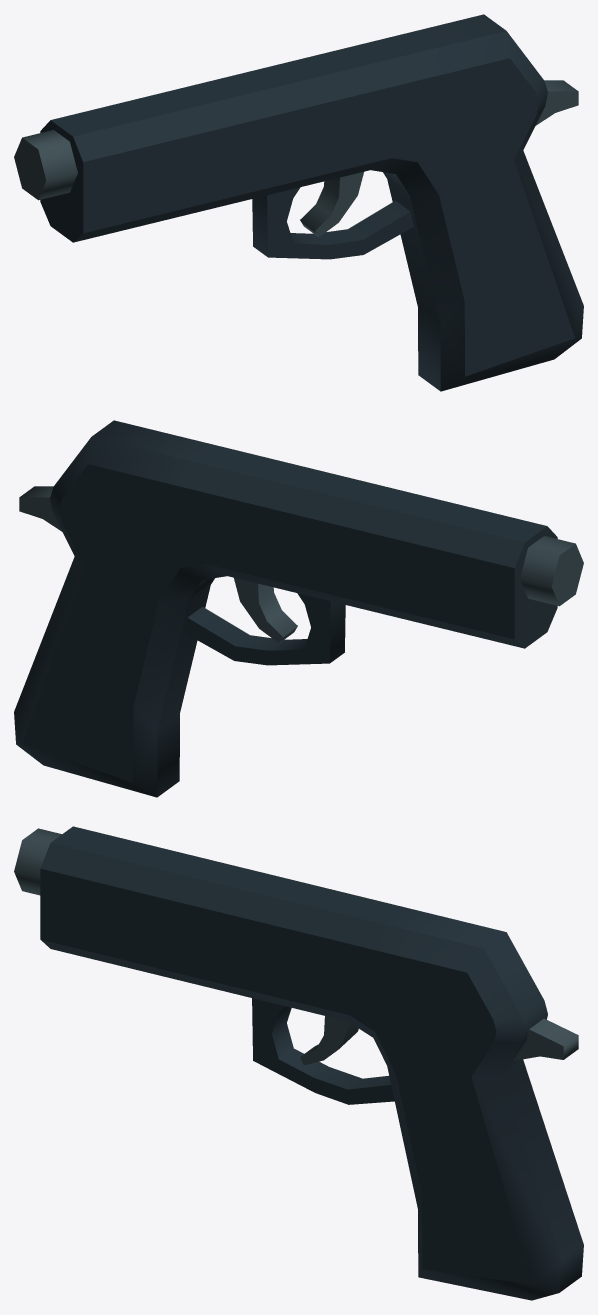
Rendered from Gun.fbx.
3 views of the same model, one above another, from view 1: azimuth 30°, elevation 25°; view 2: azimuth 150°, elevation 25°; view 3: azimuth 330°, elevation 25° (orthographic).
Visible parts, largest first — view 1: Gun; view 2: Gun; view 3: Gun.
Boxes of the visible parts, x1,y1,x2,y2 form: Gun: (14,14,583,391); Gun: (14,420,583,797); Gun: (14,826,583,1300).
Size of the model in its own units: 37.63 by 22.85 by 5.14.
